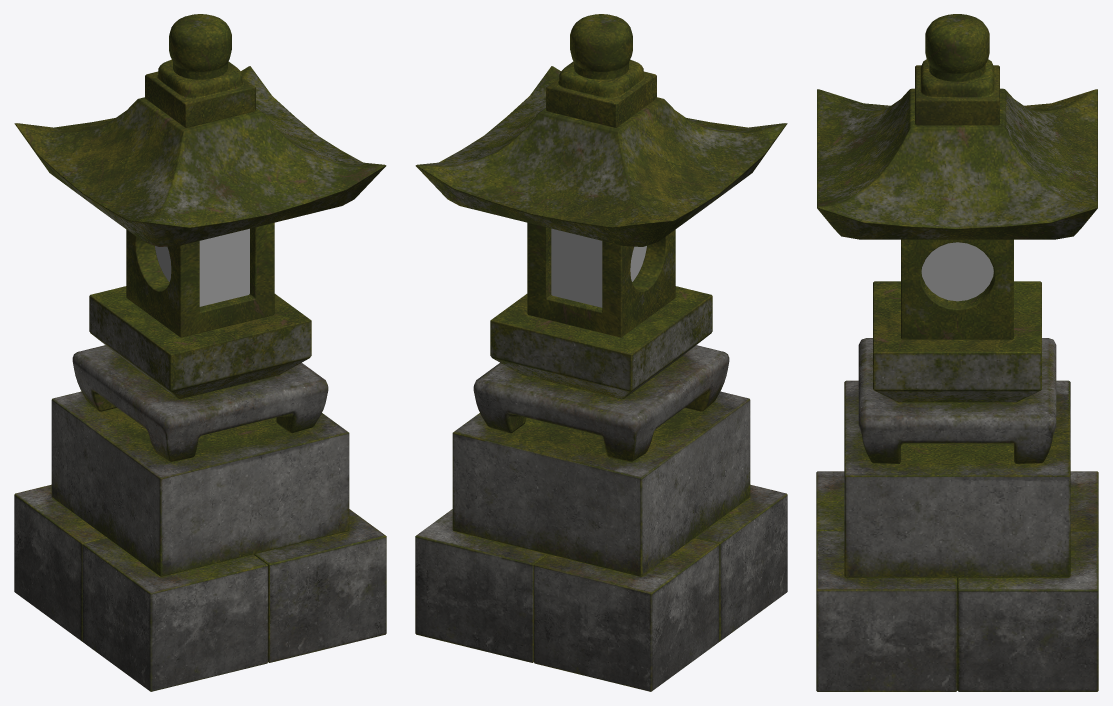
File: Shrine.fbx
The picture shows the model from 3 angles, left to right: view 1: azimuth 30°, elevation 25°; view 2: azimuth 150°, elevation 25°; view 3: azimuth 270°, elevation 25°; orthographic projection. The views are drawn at different scales.
Parts seen in each view (by area): view 1: SM_Lantern_Small, Box005; view 2: SM_Lantern_Small, Box005; view 3: SM_Lantern_Small, Box005.
Part boxes in pixels (<box>): SM_Lantern_Small: <box>14,14,386,691</box>; Box005: <box>155,228,249,306</box>; SM_Lantern_Small: <box>415,14,787,691</box>; Box005: <box>551,228,646,307</box>; SM_Lantern_Small: <box>816,14,1098,691</box>; Box005: <box>921,242,993,301</box>.
Bounding box in the file's own units: 50 × 119 × 50.
